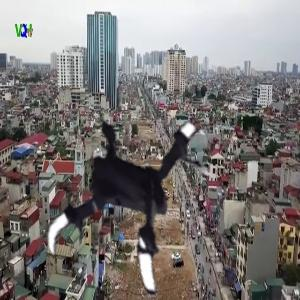drone: (26, 83, 243, 300)
